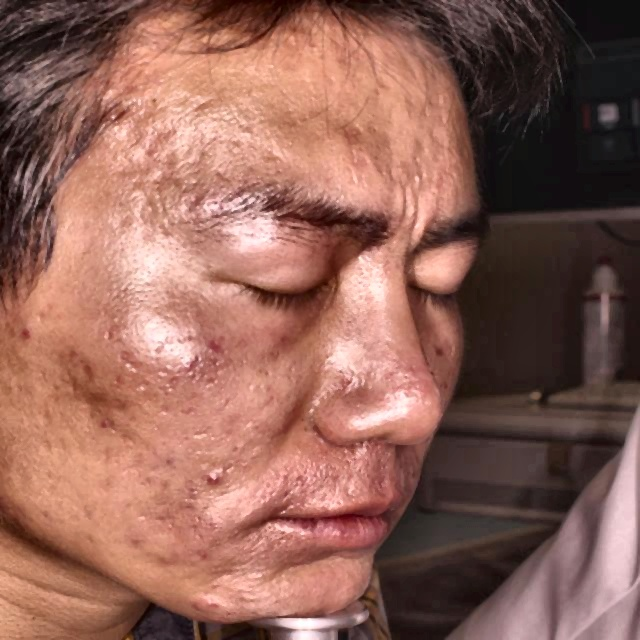comedone: (189, 588, 232, 626), (199, 468, 227, 488)
